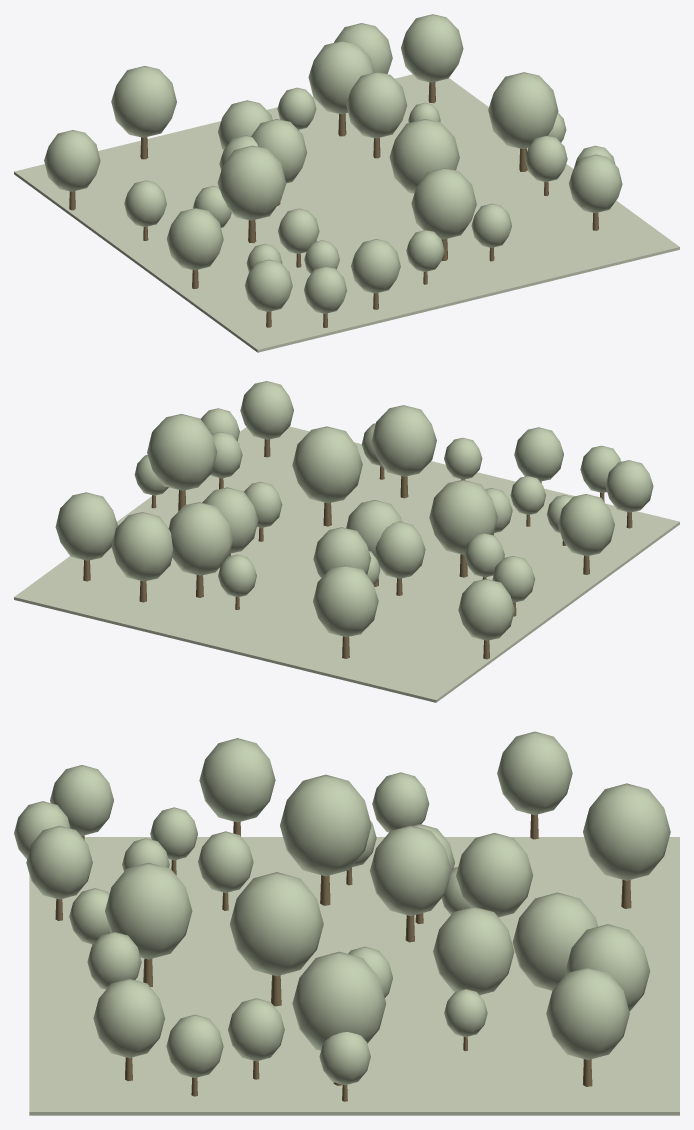
The picture shows the model from 3 angles, top to bottom: view 1: azimuth 30°, elevation 25°; view 2: azimuth 150°, elevation 25°; view 3: azimuth 270°, elevation 25°; orthographic projection. The views are drawn at different scales.
Visible parts, largest first — view 1: terrain, lod-near-9, lod-near-28, lod-near-23, lod-near-13, lod-near-8, lod-near-24, lod-near-12, lod-near-25, lod-near-11, lod-near-31, lod-near-30 (+15 smaller); view 2: terrain, lod-near-8, lod-near-9, lod-near-12, lod-near-23, lod-near-28, lod-near-13, lod-near-18, lod-near-24, lod-near-11, lod-near-31, lod-near-30 (+17 smaller); view 3: terrain, lod-near-8, lod-near-28, lod-near-9, lod-near-23, lod-near-13, lod-near-24, lod-near-17, lod-near-25, lod-near-12, lod-near-11, lod-near-6 (+18 smaller).
Boxes of the visible parts, <box> form: terrain: <box>14,74,679,352</box>; lod-near-9: <box>488,72,558,148</box>; lod-near-28: <box>217,145,286,220</box>; lod-near-23: <box>111,66,176,137</box>; lod-near-13: <box>411,168,476,239</box>; lod-near-8: <box>389,119,459,193</box>; lod-near-24: <box>401,14,463,82</box>; lod-near-12: <box>308,40,374,114</box>; lod-near-25: <box>346,72,407,138</box>; lod-near-11: <box>166,208,223,270</box>; lod-near-31: <box>44,130,100,191</box>; lod-near-30: <box>569,154,622,213</box>; terrain: <box>14,426,679,702</box>; lod-near-8: <box>292,426,362,503</box>; lod-near-9: <box>147,414,217,490</box>; lod-near-12: <box>168,502,233,575</box>; lod-near-23: <box>313,565,378,637</box>; lod-near-28: <box>429,480,497,554</box>; lod-near-13: <box>371,405,436,476</box>; lod-near-18: <box>111,512,173,581</box>; lod-near-24: <box>55,492,117,560</box>; lod-near-11: <box>558,494,614,556</box>; lod-near-31: <box>458,579,514,640</box>; lod-near-30: <box>240,381,293,439</box>; terrain: <box>29,837,679,1115</box>; lod-near-8: <box>230,872,323,976</box>; lod-near-28: <box>280,774,371,876</box>; lod-near-9: <box>292,951,386,1050</box>; lod-near-23: <box>583,783,670,880</box>; lod-near-13: <box>105,862,192,959</box>; lod-near-24: <box>546,967,629,1059</box>; lod-near-17: <box>370,825,451,915</box>; lod-near-25: <box>433,906,514,994</box>; lod-near-12: <box>512,892,598,990</box>; lod-near-11: <box>199,738,275,822</box>; lod-near-6: <box>456,833,533,917</box>.
Size of the model in its own units: 33.73 by 7.3 by 32.76.
